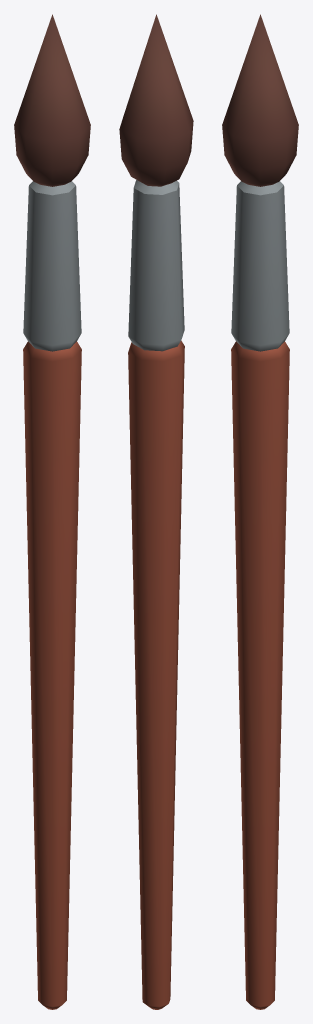
The model's file is Brush_01.fbx.
The picture shows the model from 3 angles, left to right: view 1: azimuth 90°, elevation 25°; view 2: azimuth 150°, elevation 25°; view 3: azimuth 270°, elevation 25°; orthographic projection.
Parts seen in each view (by area): view 1: Brush_01; view 2: Brush_01; view 3: Brush_01.
Boxes of the visible parts, x1,y1,x2,y2 form: Brush_01: [14, 14, 90, 1009]; Brush_01: [119, 14, 193, 1009]; Brush_01: [222, 14, 298, 1009].
Bounding box in the file's own units: 2.74 × 2.74 × 39.06.
